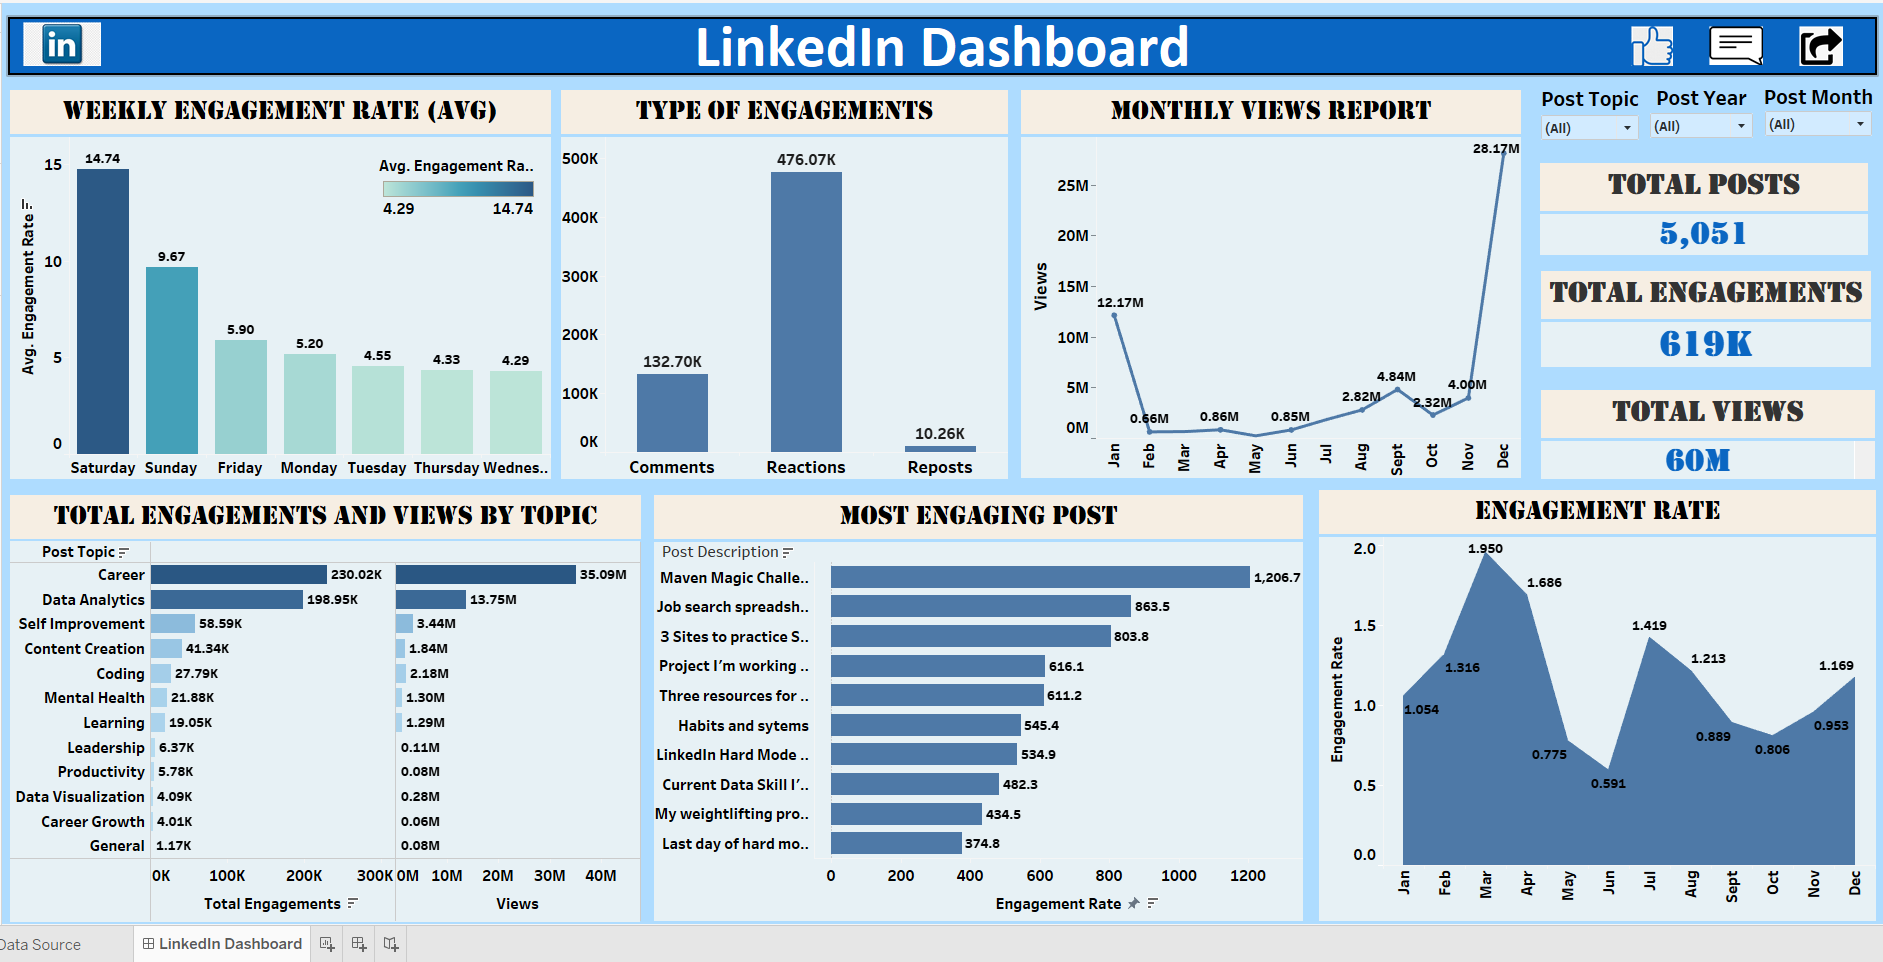

The page's visual inventory and layout, read from the dashboard file:
{"tool":"tableau","page":{"name":"LinkedIn Dashboard","canvas":[1000,1000],"units":"permille","ordinal":0},"visuals":[{"type":"text","box":[2.9,15.2,990.1,63.1]},{"type":"image","param":"Image/images.jpg","box":[11.1,21,41.5,49.1]},{"type":"image","param":"Image/download.jpg","box":[863.1,24.5,36.3,44.4]},{"type":"image","param":"Image/download (4).png","box":[904,24.5,42.7,43.2]},{"type":"image","param":"Image/download (3).png","box":[952,24.5,35.7,44.4]},{"type":"filter","title":"Sheet 3","param":"[federated.14297qc0fnsctn17n150u1l3g6wa].[none:Calculation_317503776751525894:nk","box":[932.1,85.3,59.7,59.6]},{"type":"filter","title":"Sheet 3","param":"[federated.14297qc0fnsctn17n150u1l3g6wa].[yr:PostDate:ok]","box":[871.3,86.5,57.9,63.1]},{"type":"filter","title":"Sheet 3","param":"[federated.14297qc0fnsctn17n150u1l3g6wa].[none:PostTopic:nk]","box":[813.3,87.6,55,64.2]},{"type":"worksheet","title":"Sheet 8","mark":"Bar","rows":["Engagement Rate"],"cols":["Day Of Week"],"box":[4.2,94.6,286.7,422.9]},{"type":"worksheet","title":"Sheet 5","mark":"Bar","box":[296.2,94.6,236.5,422.9]},{"type":"worksheet","title":"Sheet 3","mark":"Line","rows":["Views"],"cols":["PostDate"],"box":[539.6,94.6,265.1,421.7]},{"type":"legend","title":"Sheet 8","param":"[federated.14297qc0fnsctn17n150u1l3g6wa].[avg:Engagement Rate:qk]","box":[199.5,164.7,84.3,67.8]},{"type":"worksheet","title":"Total Posts","mark":"Text","box":[814.7,174.1,173.7,111]},{"type":"worksheet","title":"Total Engagements","mark":"Automatic","box":[815.2,290.9,174.8,106.3]},{"type":"worksheet","title":"Total Views","mark":"Text","box":[815.2,420.6,176.9,97]},{"type":"worksheet","title":"Sheet 6","mark":"Area","rows":["Engagement Rate"],"cols":["PostDate"],"box":[697.5,529.2,295.1,468.5]},{"type":"worksheet","title":"Sheet 9","mark":"Bar","rows":["PostTopic"],"cols":["Calculation_317503776536072195","Views"],"box":[4.2,533.9,334.2,463.8]},{"type":"worksheet","title":"Sheet 7","mark":"Automatic","rows":["PostDescription"],"cols":["Engagement Rate"],"box":[345.3,533.9,343.7,462.6]}]}

Visuals, with their boxes on the dashboard's canvas, which has no fixed pixel size, in thousandths of its width and height (x1, y1, x2, y2). These are canvas units, not pixel positions in the 1883x962 screenshot, which may show the page scaled, cropped or inside an application window:
text: x1=3, y1=15, x2=993, y2=78
image: x1=11, y1=21, x2=53, y2=70
image: x1=863, y1=24, x2=899, y2=69
image: x1=904, y1=24, x2=947, y2=68
image: x1=952, y1=24, x2=988, y2=69
"Sheet 3" filter: x1=932, y1=85, x2=992, y2=145
"Sheet 3" filter: x1=871, y1=86, x2=929, y2=150
"Sheet 3" filter: x1=813, y1=88, x2=868, y2=152
"Sheet 8" worksheet (Bar marks): x1=4, y1=95, x2=291, y2=518
"Sheet 5" worksheet (Bar marks): x1=296, y1=95, x2=533, y2=518
"Sheet 3" worksheet (Line marks): x1=540, y1=95, x2=805, y2=516
"Sheet 8" legend: x1=200, y1=165, x2=284, y2=232
"Total Posts" worksheet (Text marks): x1=815, y1=174, x2=988, y2=285
"Total Engagements" worksheet: x1=815, y1=291, x2=990, y2=397
"Total Views" worksheet (Text marks): x1=815, y1=421, x2=992, y2=518
"Sheet 6" worksheet (Area marks): x1=698, y1=529, x2=993, y2=998
"Sheet 9" worksheet (Bar marks): x1=4, y1=534, x2=338, y2=998
"Sheet 7" worksheet: x1=345, y1=534, x2=689, y2=996
